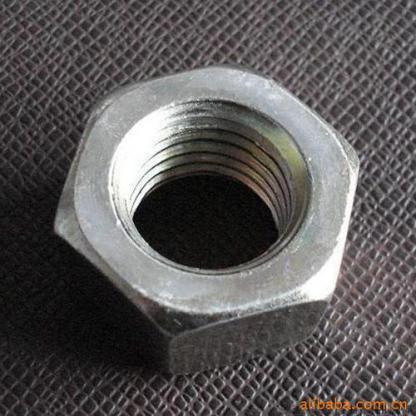FOD: (49, 58, 368, 381)
